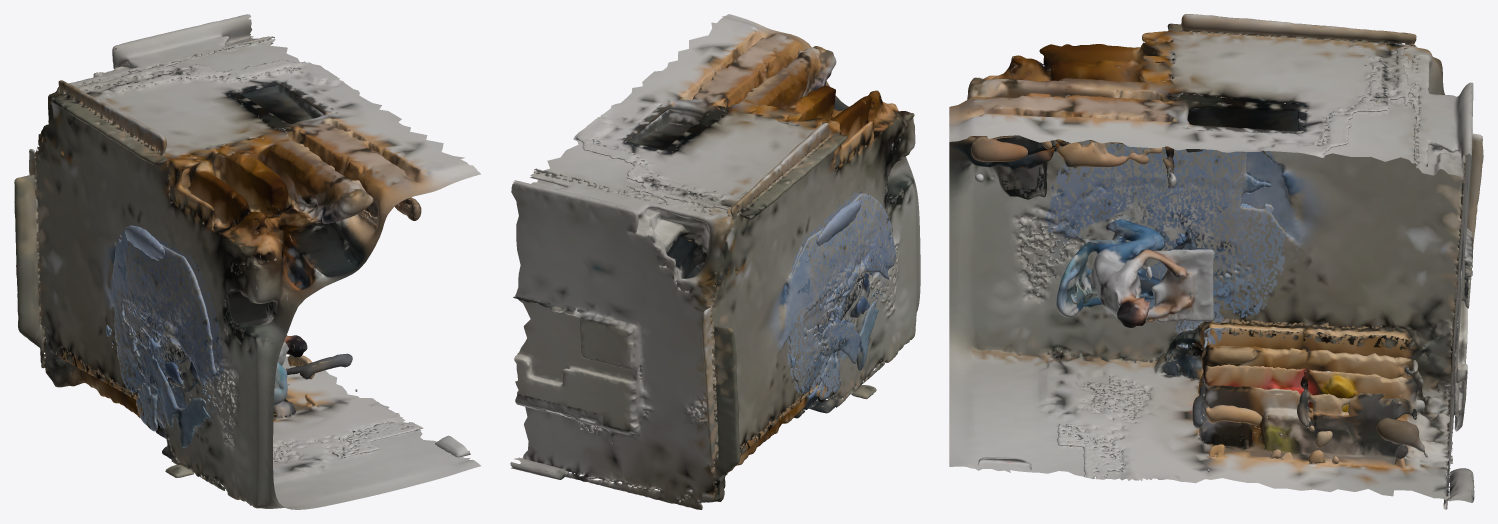
The picture shows the model from 3 angles, left to right: view 1: azimuth 30°, elevation 25°; view 2: azimuth 150°, elevation 25°; view 3: azimuth 270°, elevation 25°; orthographic projection. The views are drawn at different scales.
Parts seen in each view (by area): view 1: answering_questions_82; view 2: answering_questions_82; view 3: answering_questions_82.
Boxes of the visible parts, <box> form: answering_questions_82: <box>14,14,480,509</box>; answering_questions_82: <box>510,14,920,509</box>; answering_questions_82: <box>949,14,1483,509</box>.
Bounding box in the file's own units: 2.38 × 3.23 × 4.11.
Materials: 1 (1 with a texture image).
